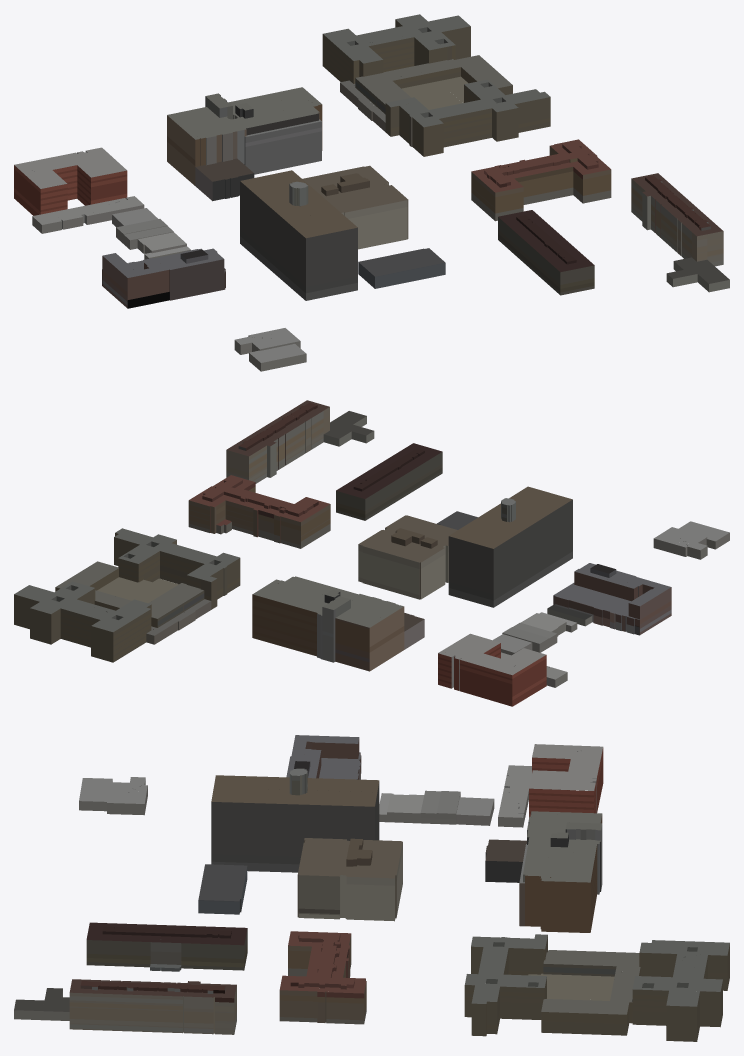
File: t_-1_-2.far.glb
3 views of the same model, one above another, from view 1: azimuth 30°, elevation 25°; view 2: azimuth 150°, elevation 25°; view 3: azimuth 270°, elevation 25° (orthographic). The views are drawn at different scales.
Parts seen in each view (by area): view 1: opaque; view 2: opaque; view 3: opaque.
Boxes of the visible parts, left/top/right/bottom form: opaque: left=14, top=14, right=729, bottom=371; opaque: left=14, top=400, right=729, bottom=706; opaque: left=14, top=735, right=729, bottom=1041.
Bounding box in the file's own units: 282 × 42.12 × 312.
Materials: 1 (1 with a texture image).
